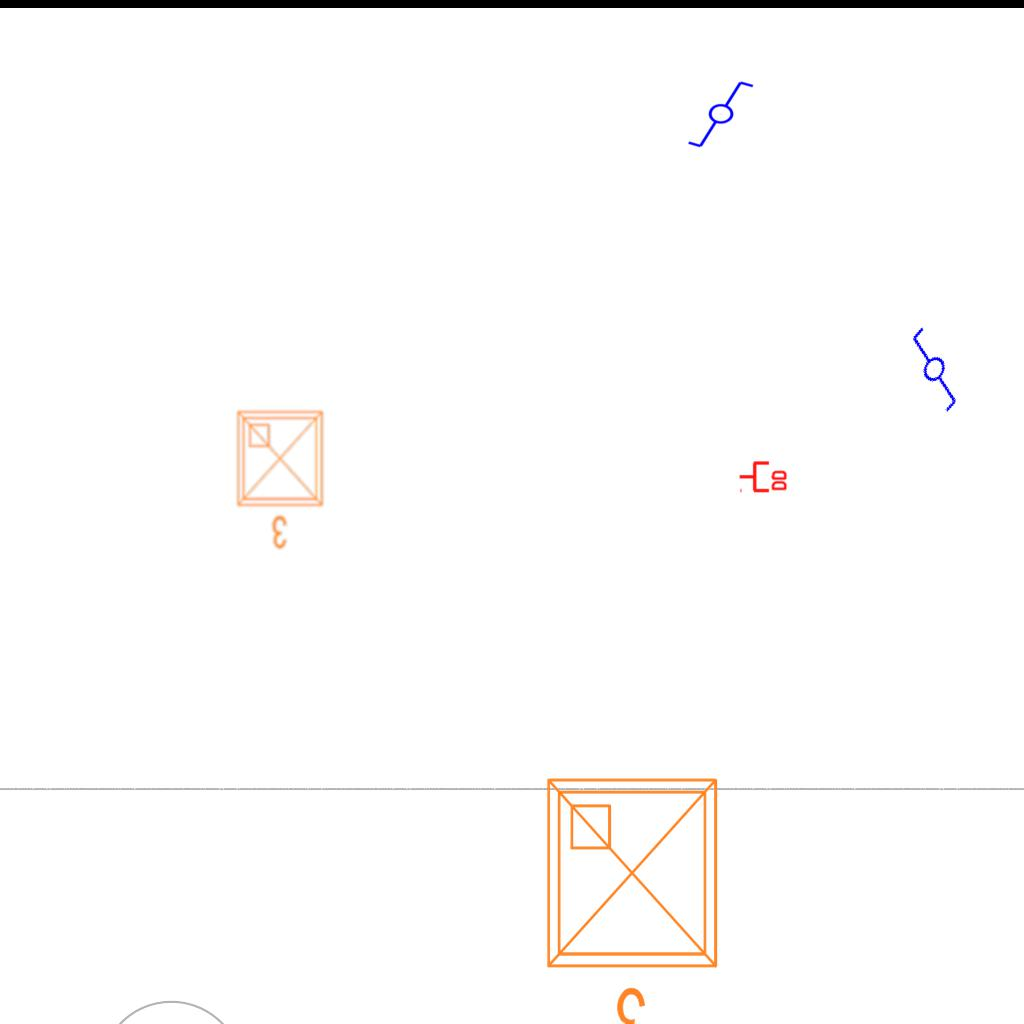Datenanschluss_zweifach: (738, 459, 789, 493)
Einbaudownlights_LED_Konferenzraeume: (532, 764, 740, 1024), (230, 404, 334, 554)
Wechselschalter: (887, 315, 987, 417), (686, 79, 764, 151)
